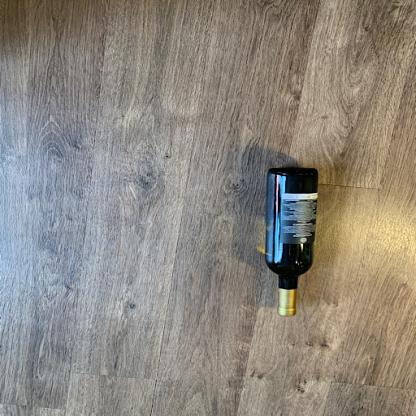trash: (267, 165, 321, 320)
